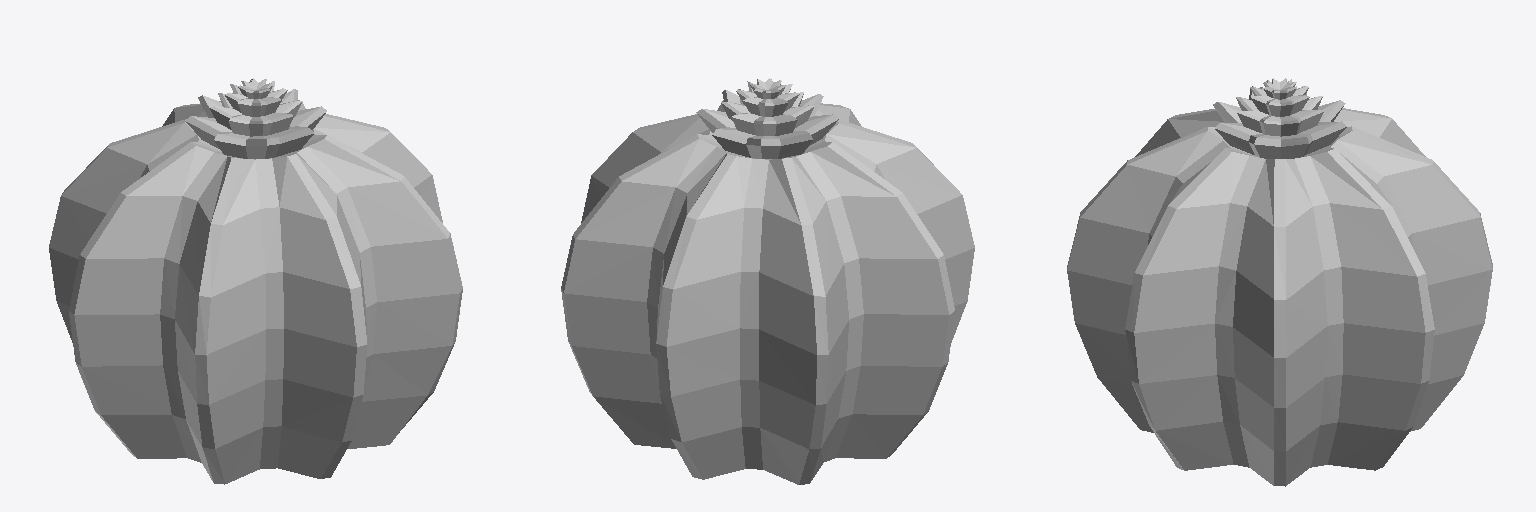
The model's file is cactus_palla_tmp.obj.
3 views of the same model, side by side, from view 1: azimuth 30°, elevation 25°; view 2: azimuth 150°, elevation 25°; view 3: azimuth 270°, elevation 25° (orthographic).
Parts seen in each view (by area): view 1: cactus_palla_low; view 2: cactus_palla_low; view 3: cactus_palla_low.
Part boxes in pixels (bbox=[...]): cactus_palla_low: bbox=[49, 78, 462, 484]; cactus_palla_low: bbox=[561, 78, 974, 484]; cactus_palla_low: bbox=[1067, 78, 1492, 486].
Bounding box in the file's own units: 17.98 × 15.99 × 17.98.